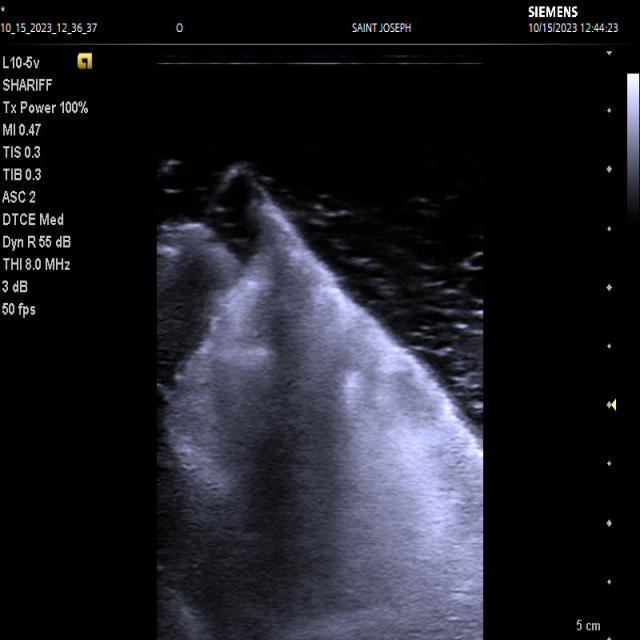tissue: (157, 204, 484, 640)
